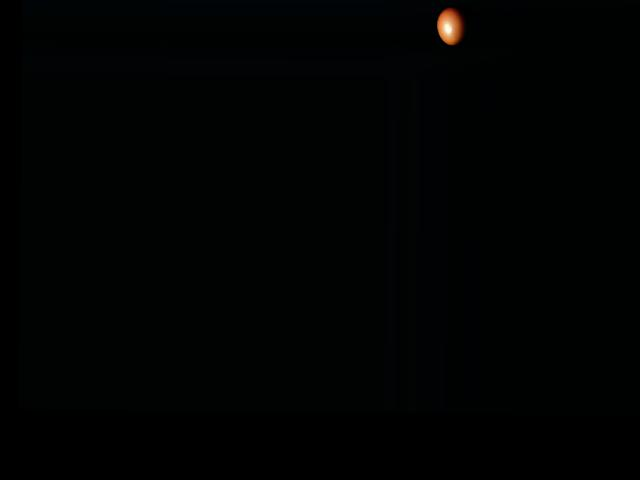egg: (437, 6, 468, 45)
